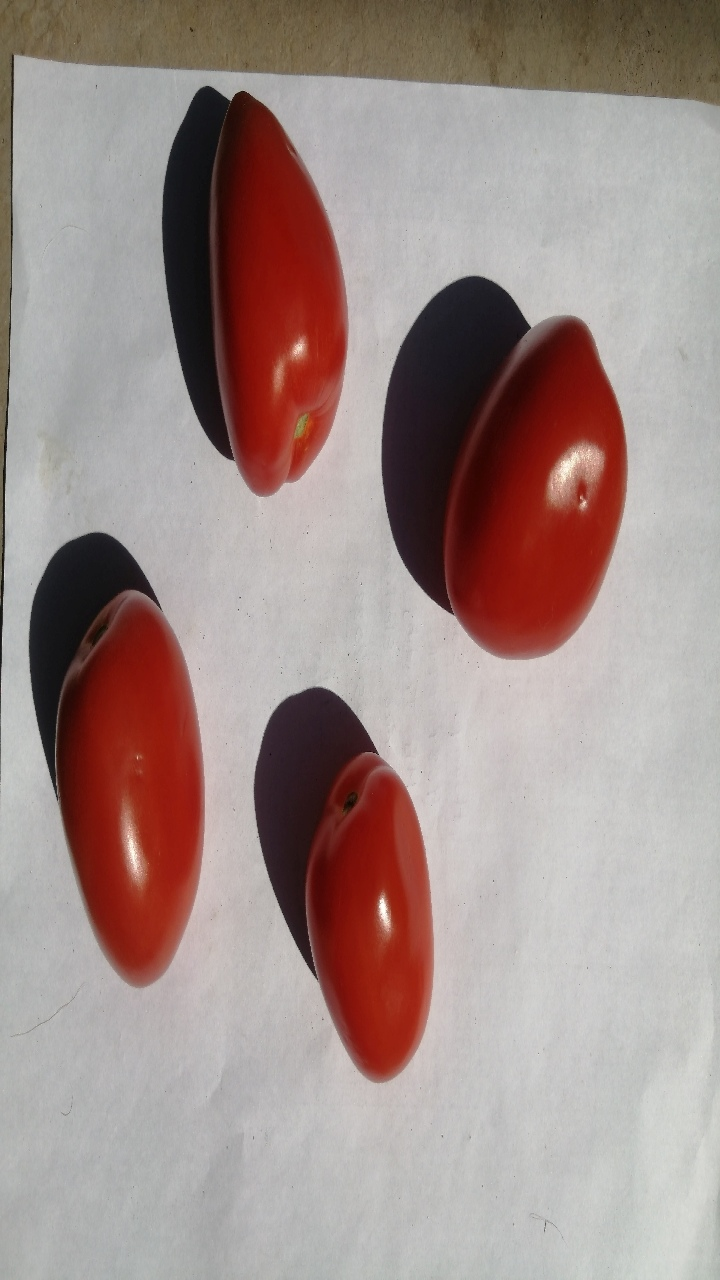tomateRojo: (168, 71, 386, 511), (35, 577, 241, 1011), (428, 339, 651, 675), (277, 719, 466, 1097)
